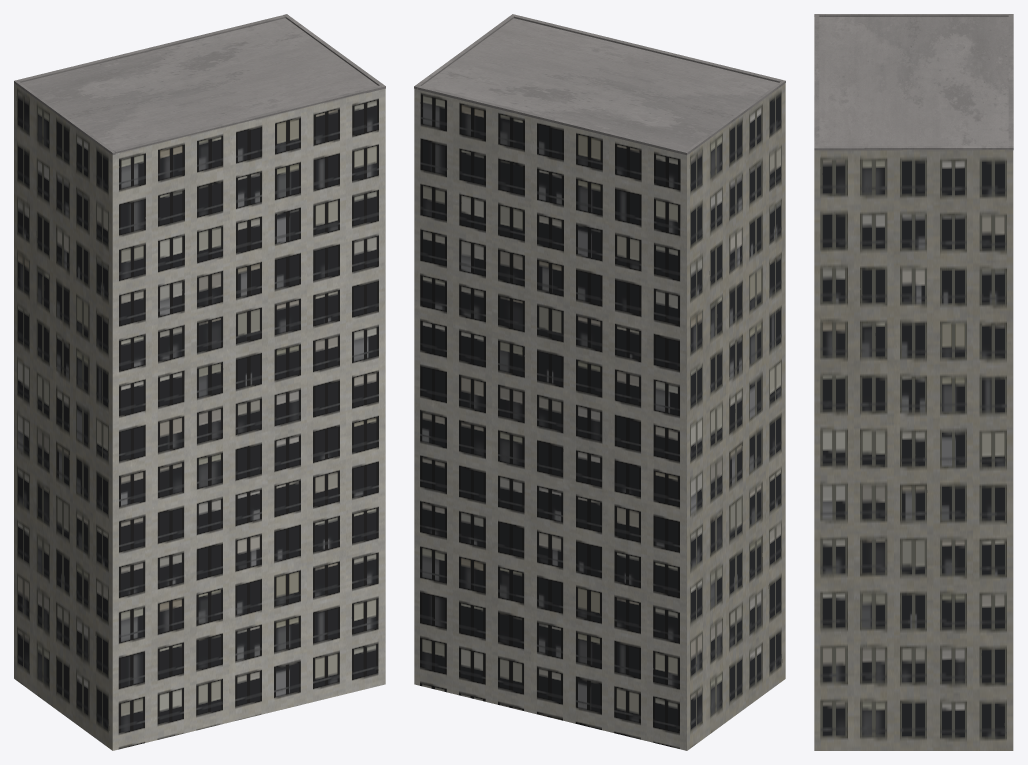
Rendered from build9.fbx.
3 renders of one model, left to right at view 1: azimuth 30°, elevation 25°; view 2: azimuth 150°, elevation 25°; view 3: azimuth 270°, elevation 25°, orthographic.
Visible parts, largest first — view 1: Construction_Building; view 2: Construction_Building; view 3: Construction_Building.
Boxes of the visible parts, <box> form: Construction_Building: <box>14,14,385,750</box>; Construction_Building: <box>414,14,785,750</box>; Construction_Building: <box>814,14,1013,750</box>.
Size of the model in its own units: 475 by 993 by 297.
Materials: 1 (1 with a texture image).
